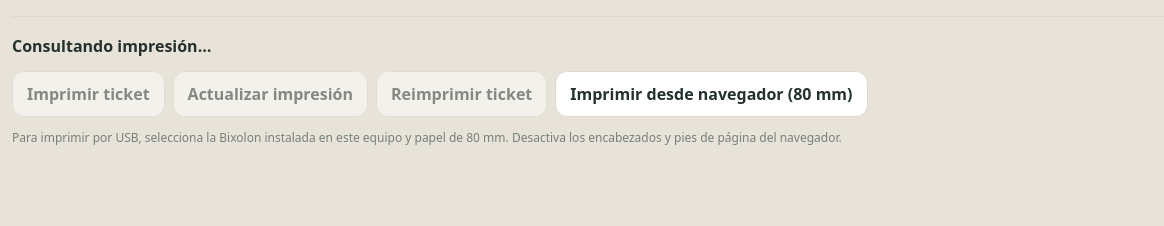
Scenario: ReceiptPrintControls › impide imprimir una copia desactualizada si falla la consulta del ticket
The image size is (1164, 226).
Click the button "Imprimir desde navegador (80 mm)".
click(711, 94)  # box [555,71,868,117]
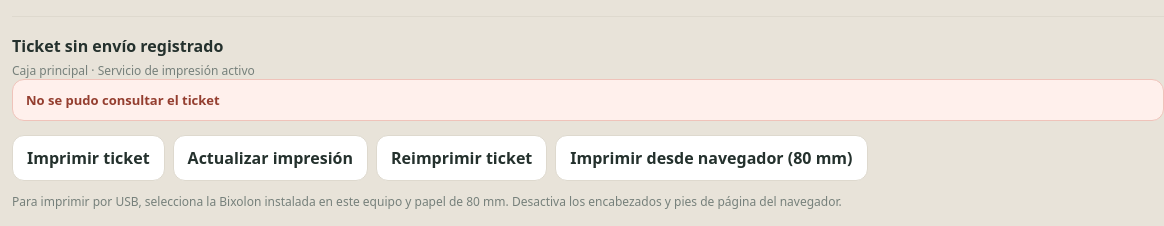
Now the message "No se pudo consultar el ticket" is shown, box [12,79,1163,121]
